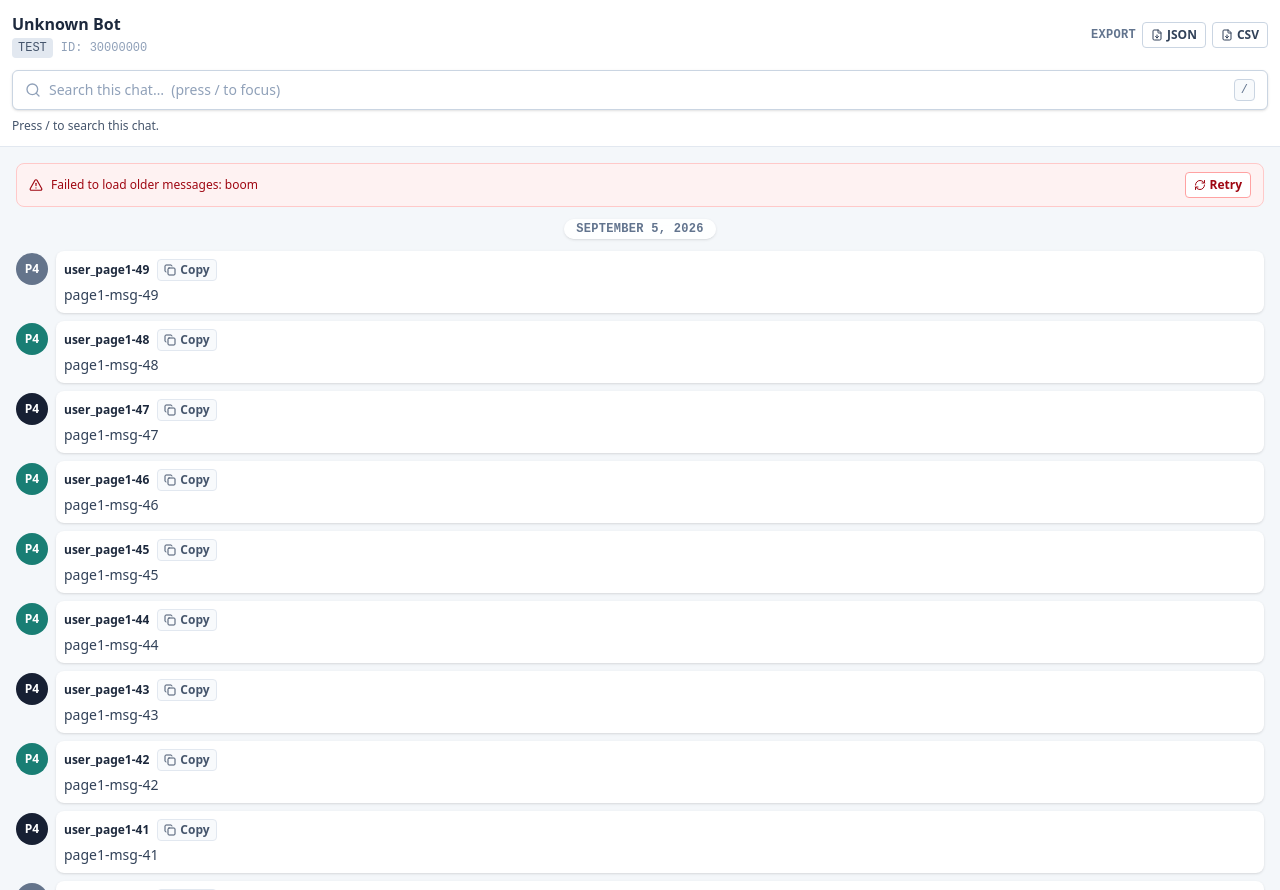
Test case: ChatWindow › shows an inline retry row after a page error and recovers on retry
Expected: the message "Failed to load older messages: boom Retry" is shown, [16,163,1264,207]
Click the button "Retry". click: [1218, 185]
box: [1184,172,1251,198]
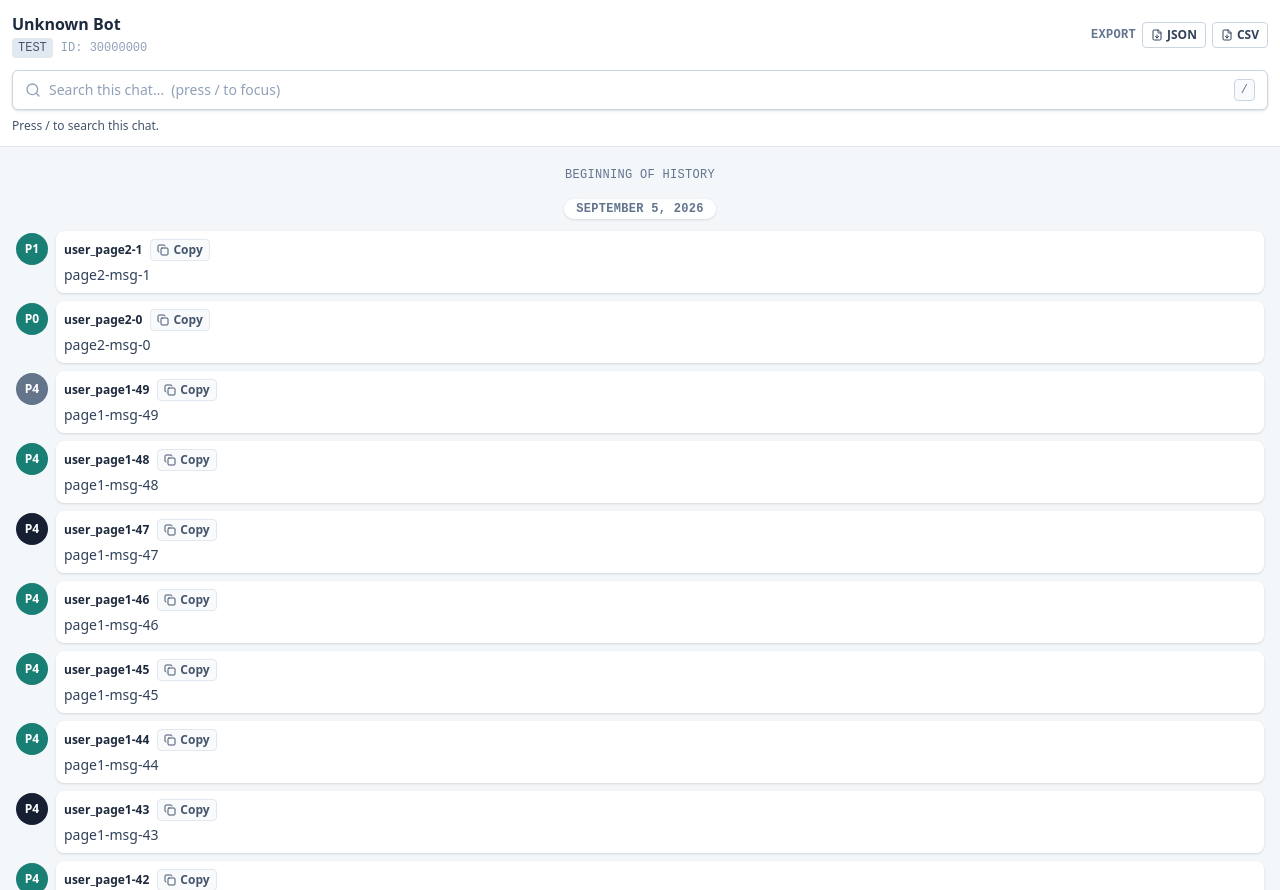
Result: the text "page2-msg-0" is shown at [64,335,150,354]
